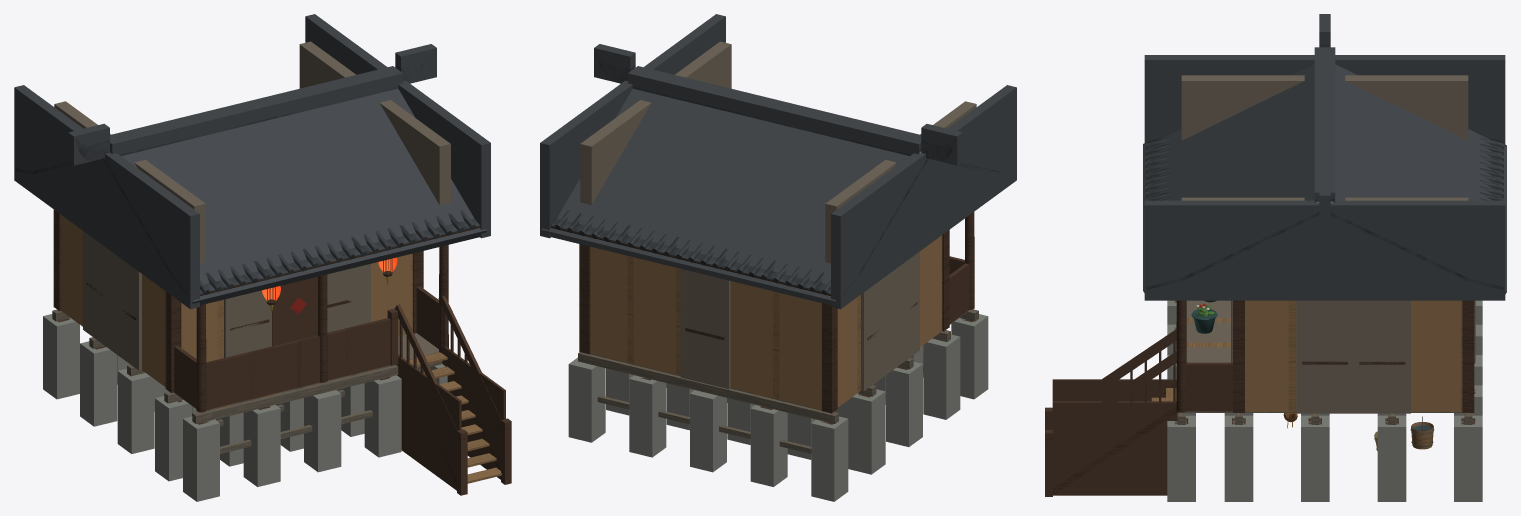
Rendered from kit_stilt_plank.gltf.
3 renders of one model, left to right at view 1: azimuth 30°, elevation 25°; view 2: azimuth 150°, elevation 25°; view 3: azimuth 270°, elevation 25°, orthographic. The views are drawn at different scales.
Visible parts, largest first — view 1: Far, Near, Detail; view 2: Far, Near; view 3: Far, Near, Detail.
Part boxes in pixels (box(x1,y1,x2,y2)): Far: box(14, 14, 511, 501); Near: box(15, 55, 511, 486); Detail: box(262, 257, 397, 314); Far: box(540, 14, 1016, 501); Near: box(550, 52, 999, 453); Far: box(1045, 14, 1506, 501); Near: box(1045, 44, 1504, 494); Detail: box(1191, 300, 1434, 450).
Bounding box in the file's own units: 7.49 × 6.37 × 8.05.
28 materials, 27 textured.
